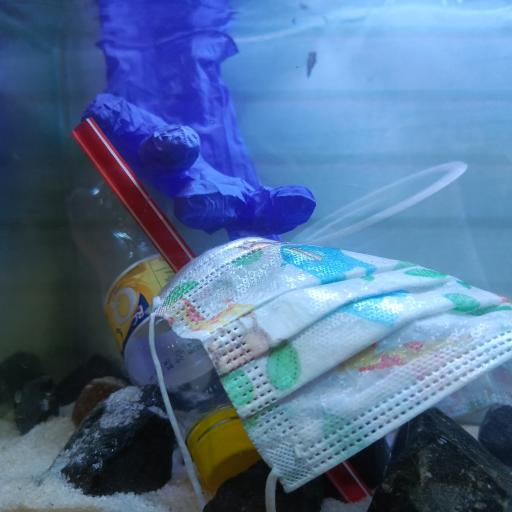bottle_cap: (192, 420, 264, 490)
glove: (80, 31, 317, 241)
mask: (151, 237, 512, 495)
plastic_bottle: (78, 177, 263, 495)
plastic_cup: (304, 159, 492, 293)
plastic_straw: (71, 117, 366, 499)
